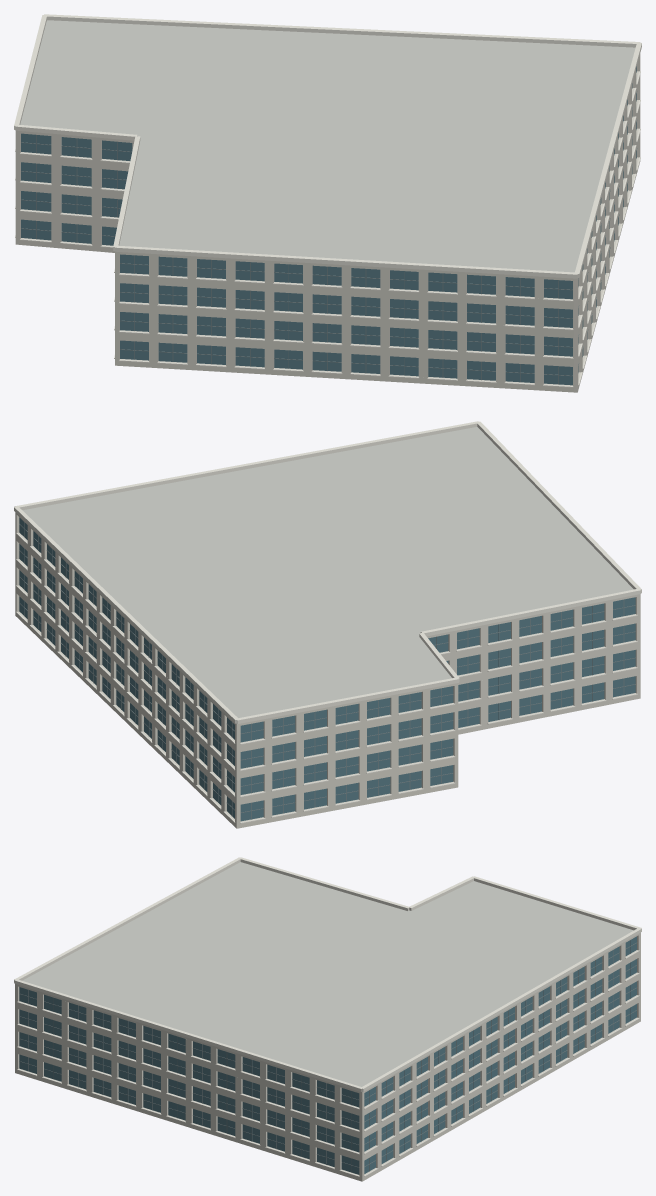
3 renders of one model, top to bottom at view 1: azimuth 30°, elevation 25°; view 2: azimuth 150°, elevation 25°; view 3: azimuth 270°, elevation 25°, orthographic. The views are drawn at different scales.
Visible parts, largest first — view 1: roof, wall, glass, trim, metal; view 2: roof, wall, glass, trim, metal; view 3: roof, wall, glass, trim, metal.
Boxes of the visible parts, <box> form: roof: <box>20,20,635,272</box>; wall: <box>15,54,640,392</box>; glass: <box>21,66,636,385</box>; trim: <box>14,14,641,387</box>; metal: <box>21,90,637,384</box>; roof: <box>23,427,633,717</box>; wall: <box>15,512,640,828</box>; glass: <box>19,517,635,821</box>; trim: <box>14,421,641,823</box>; metal: <box>19,522,635,819</box>; roof: <box>22,862,633,1086</box>; wall: <box>15,932,640,1181</box>; glass: <box>19,936,636,1174</box>; trim: <box>14,857,641,1176</box>; metal: <box>19,940,637,1172</box>.
Bounding box in the file's own units: 69.64 × 13.04 × 79.7.
